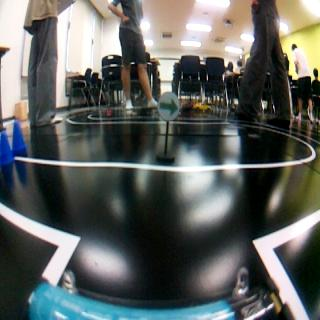right: (160, 94, 178, 122)
